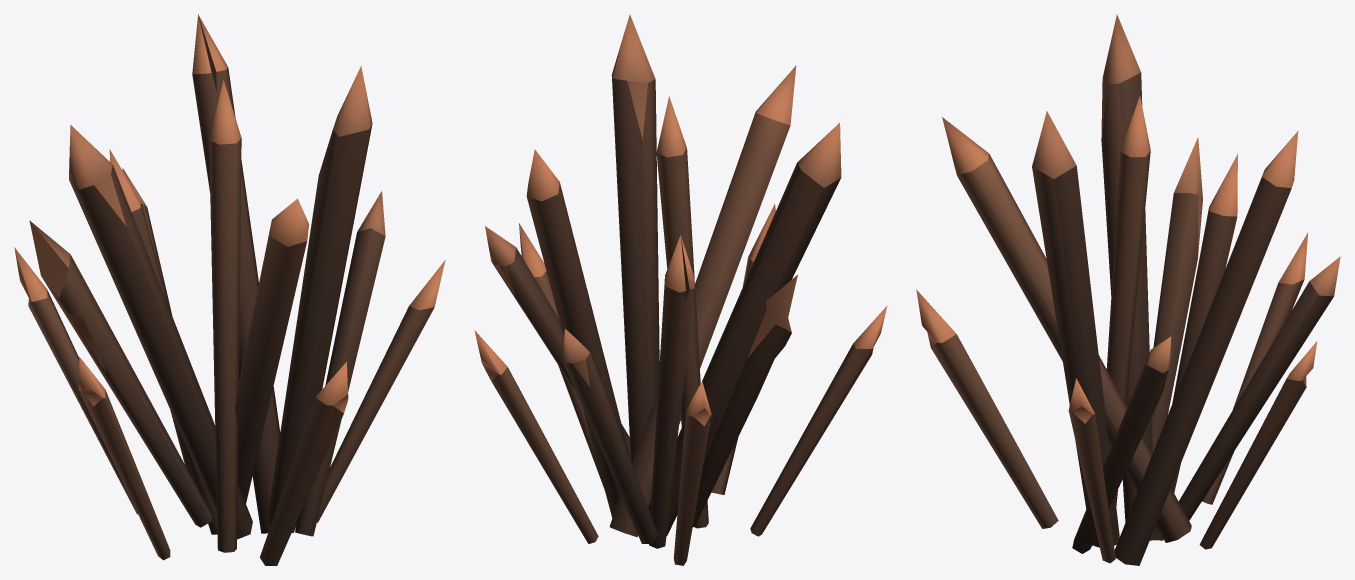
File: Spike_Trap_1A.fbx
3 views of the same model, side by side, from view 1: azimuth 30°, elevation 25°; view 2: azimuth 150°, elevation 25°; view 3: azimuth 270°, elevation 25° (orthographic). The views are drawn at different scales.
Parts seen in each view (by area): view 1: Spike_Trap_1A; view 2: Spike_Trap_1A; view 3: Spike_Trap_1A.
Part boxes in pixels (x1,y1,x2,y2): Spike_Trap_1A: (14,14,445,565); Spike_Trap_1A: (474,14,887,565); Spike_Trap_1A: (916,14,1340,565).
Size of the model in its own units: 88.53 by 111 by 90.5.
